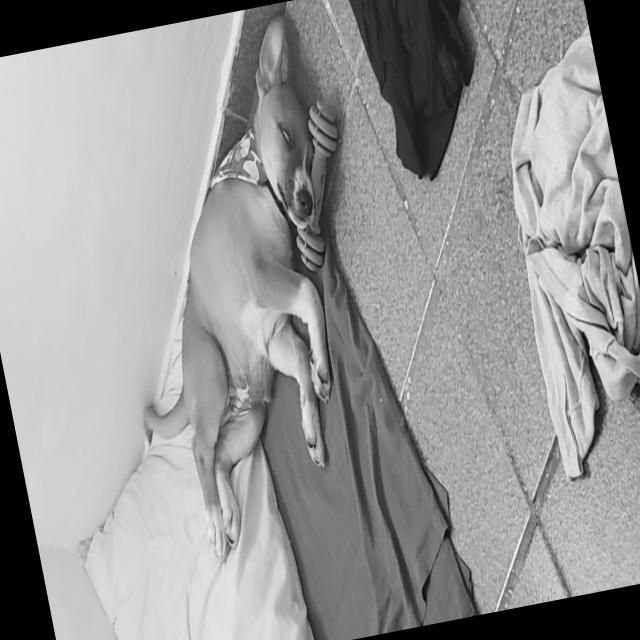laying down: (67, 6, 408, 582)
